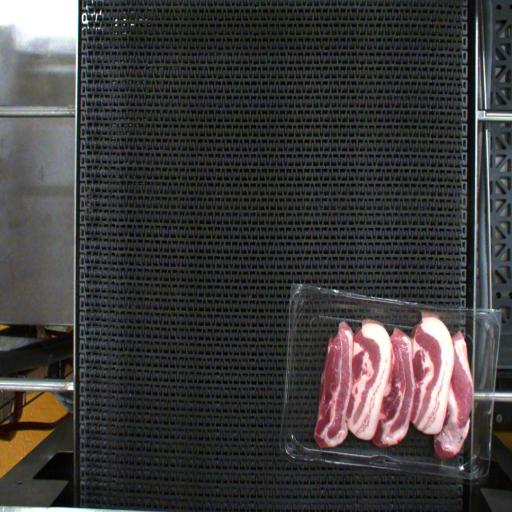packaging-error: (414, 300, 450, 324)
twisted-meat: (447, 336, 478, 463)
